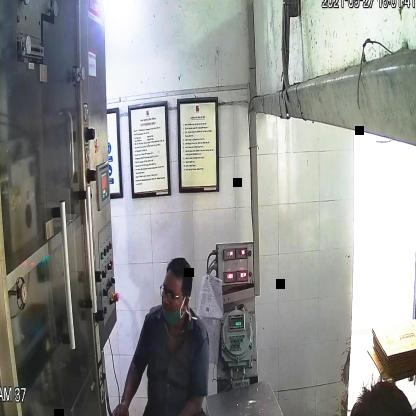goggles: (157, 281, 190, 308)
